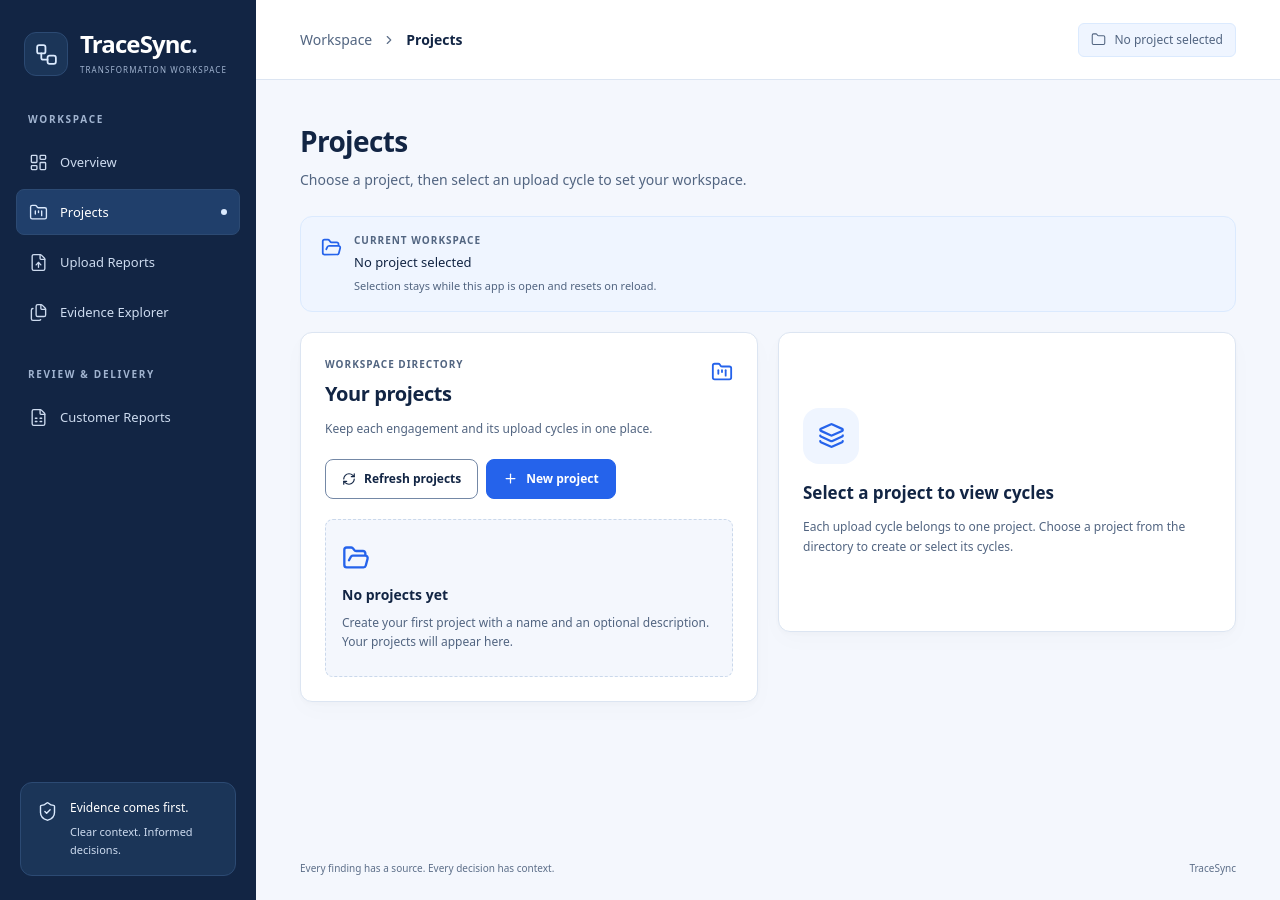
it: Projects and upload cycles › renders the empty state and creates a project from the real request fields
Expected: the heading "No projects yet" is shown, [342, 584, 448, 605]
Click the button "New project" at [551, 479], box [486, 459, 616, 499]
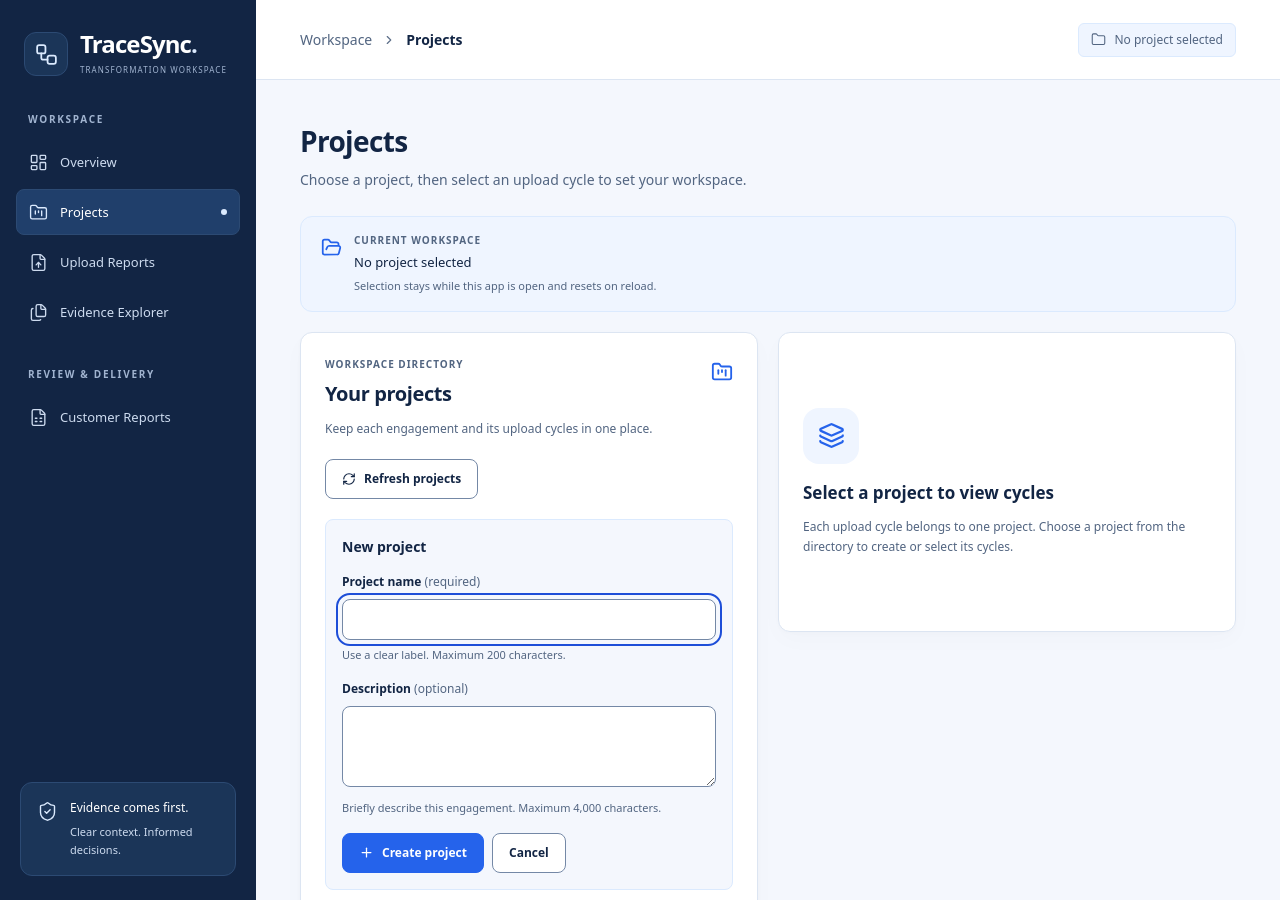
Type "  Fictional pilot  " into the field labelled "Project name" at [529, 620], box [342, 599, 716, 640]
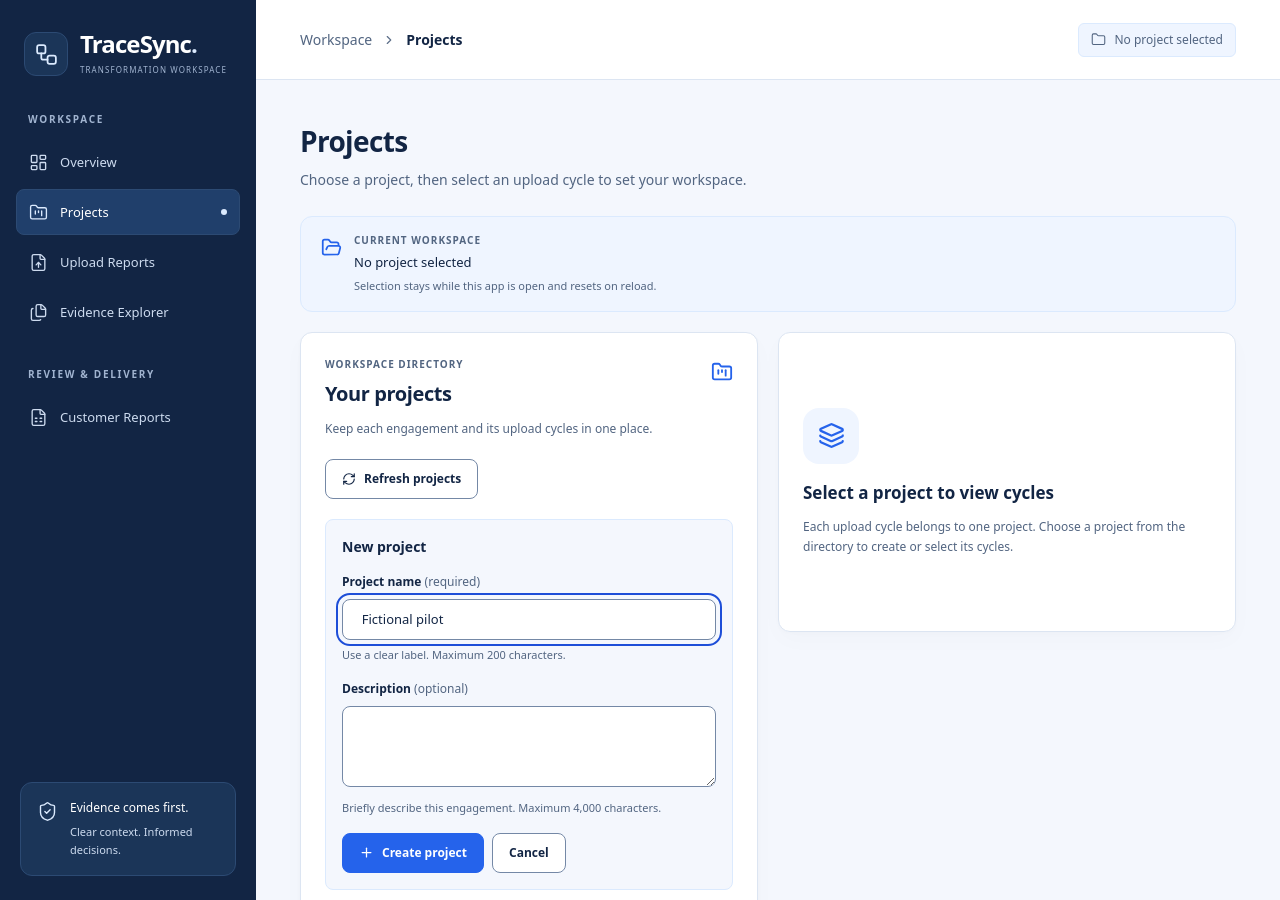
Type "Synthetic description" into the text box labelled "Description" at [529, 746], box [342, 706, 716, 787]
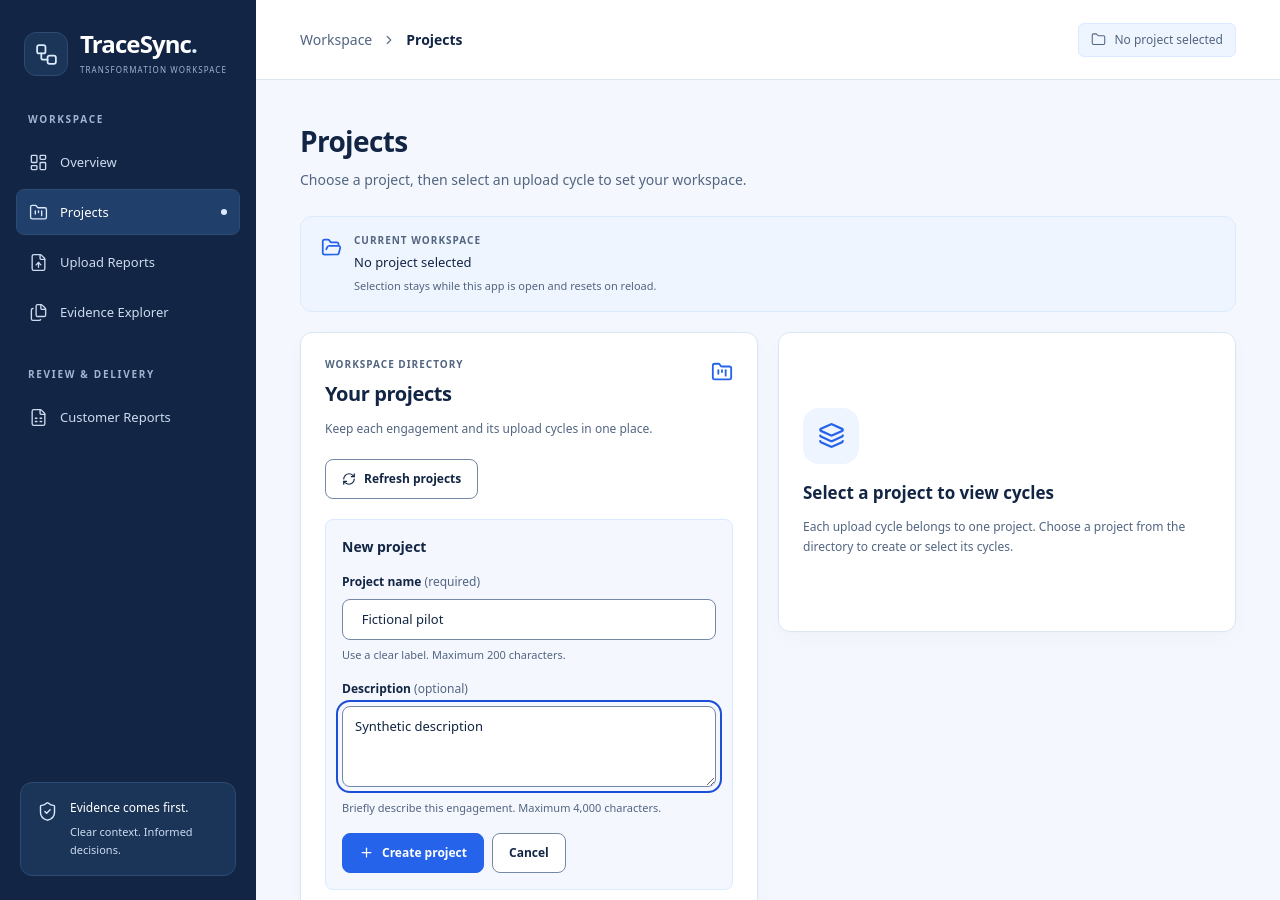
Click the button "Create project" at [413, 852], box [342, 832, 484, 872]
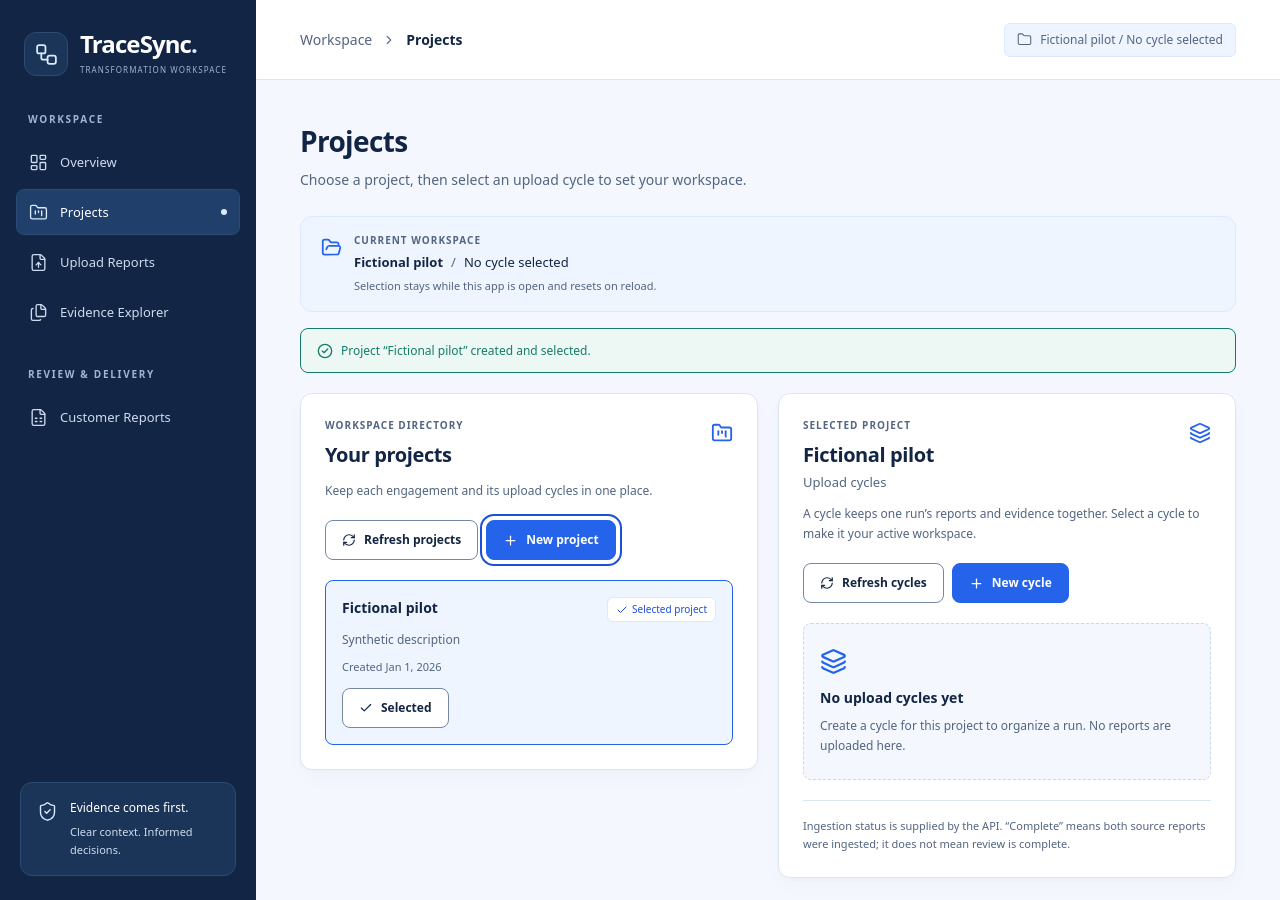
Expected: the heading "Fictional pilot" below "Your projects" is shown, [342, 597, 438, 620]
Expected: the text "Project “Fictional pilot” created and selected." is shown, [341, 341, 591, 360]
Expected: the heading "No upload cycles yet" is shown, [820, 687, 964, 708]
